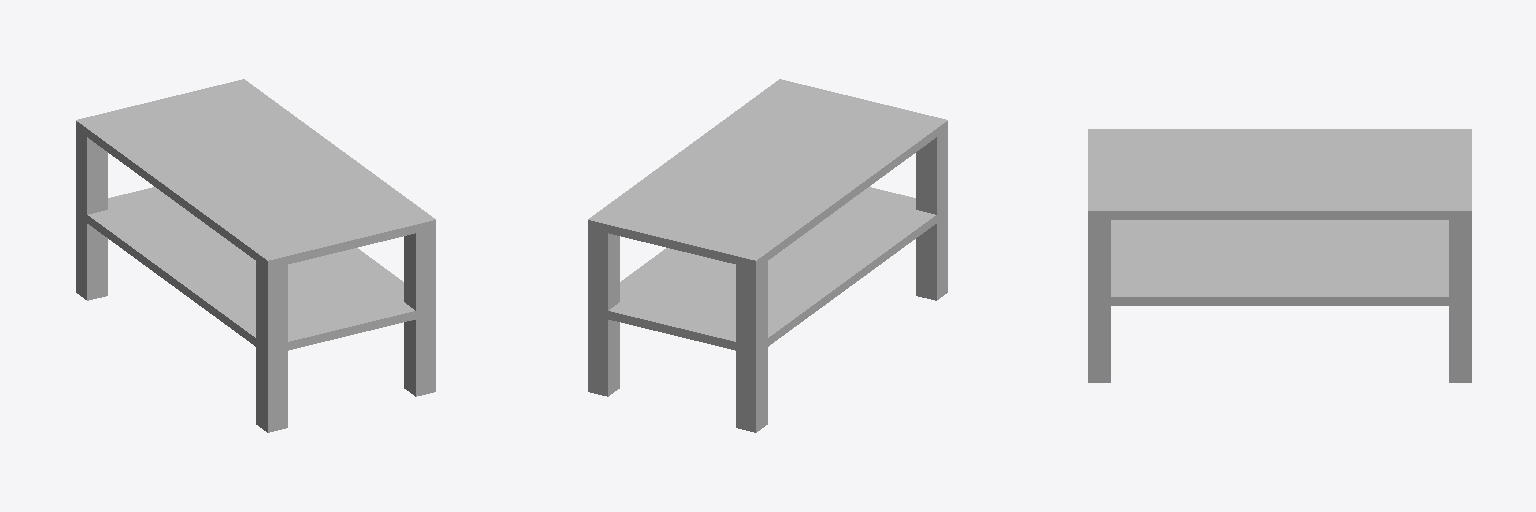
The model's file is rack_01.obj.
The picture shows the model from 3 angles: view 1: azimuth 30°, elevation 25°; view 2: azimuth 150°, elevation 25°; view 3: azimuth 270°, elevation 25°; orthographic projection.
Parts seen in each view (by area): view 1: Cube; view 2: Cube; view 3: Cube.
Part boxes in pixels (bbox=[...]): Cube: bbox=[76, 79, 435, 432]; Cube: bbox=[588, 79, 947, 432]; Cube: bbox=[1088, 129, 1471, 382].
Bounding box in the file's own units: 2.05 × 2 × 4.05.